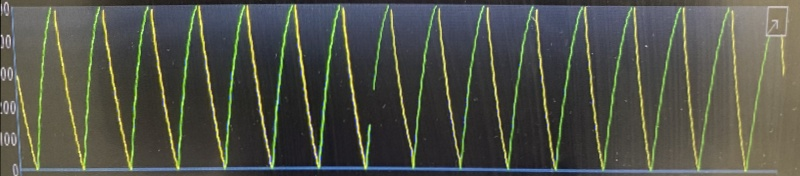normal_volume: (19, 0, 754, 175)
